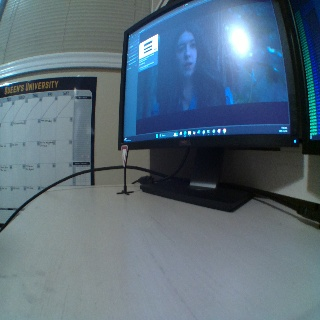sign_yield: (119, 145, 130, 165)
